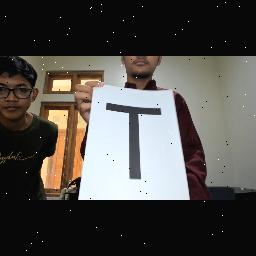t: (103, 100, 167, 182)
